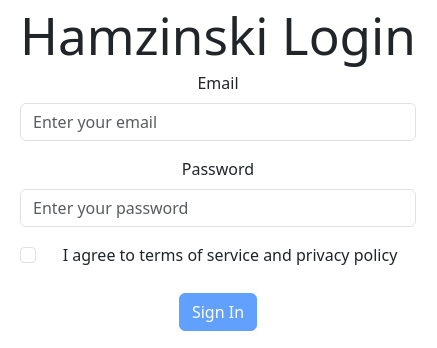
Test: login form › onay verilmemişken buton pasif kalıyor
Type "admin@test.com" into the field named "email" at (218, 122), box [20,103,416,141]
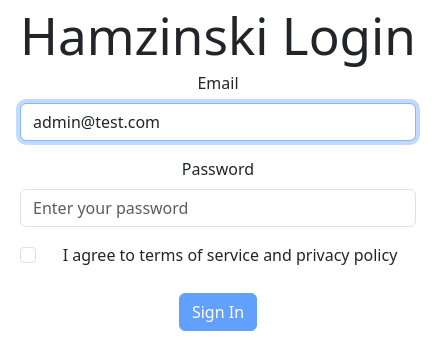
Type "123456" into the password field named "password" at (218, 208), box [20,189,416,227]
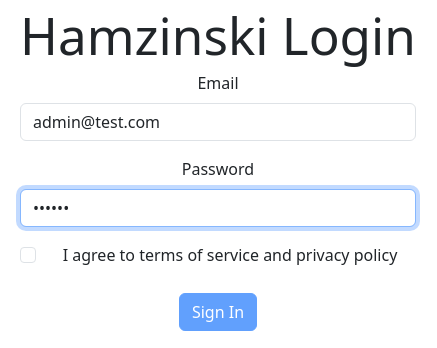
Check the checkbox with test id "terms" at (28, 255), box [20,247,36,263]
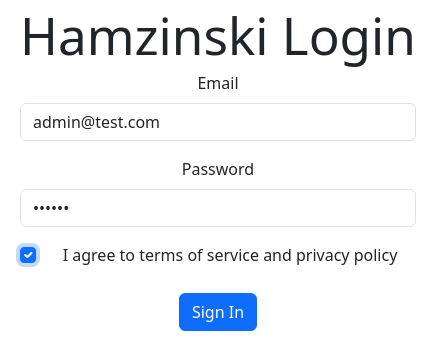
Uncheck the checkbox with test id "terms" at (28, 255), box [20,247,36,263]
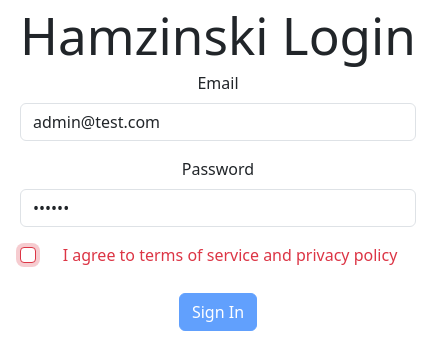
Expected: the button "Sign In" is disabled, [179,293,257,331]
